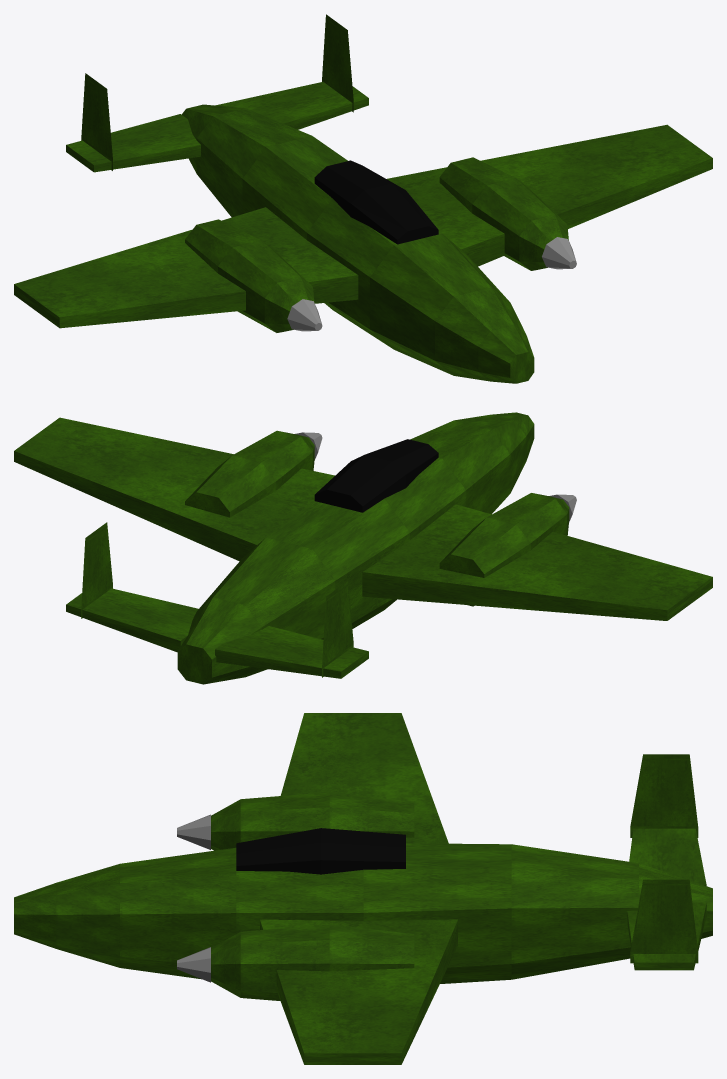
The model's file is plane_marauder.obj.
3 views of the same model, one above another, from view 1: azimuth 30°, elevation 25°; view 2: azimuth 150°, elevation 25°; view 3: azimuth 270°, elevation 25° (orthographic). The views are drawn at different scales.
Visible parts, largest first — view 1: plane_marauder; view 2: plane_marauder; view 3: plane_marauder.
Boxes of the visible parts, x1,y1,x2,y2 form: plane_marauder: (14,14,712,383); plane_marauder: (14,412,712,684); plane_marauder: (14,713,712,1064).
Bounding box in the file's own units: 38 × 8.25 × 33.
